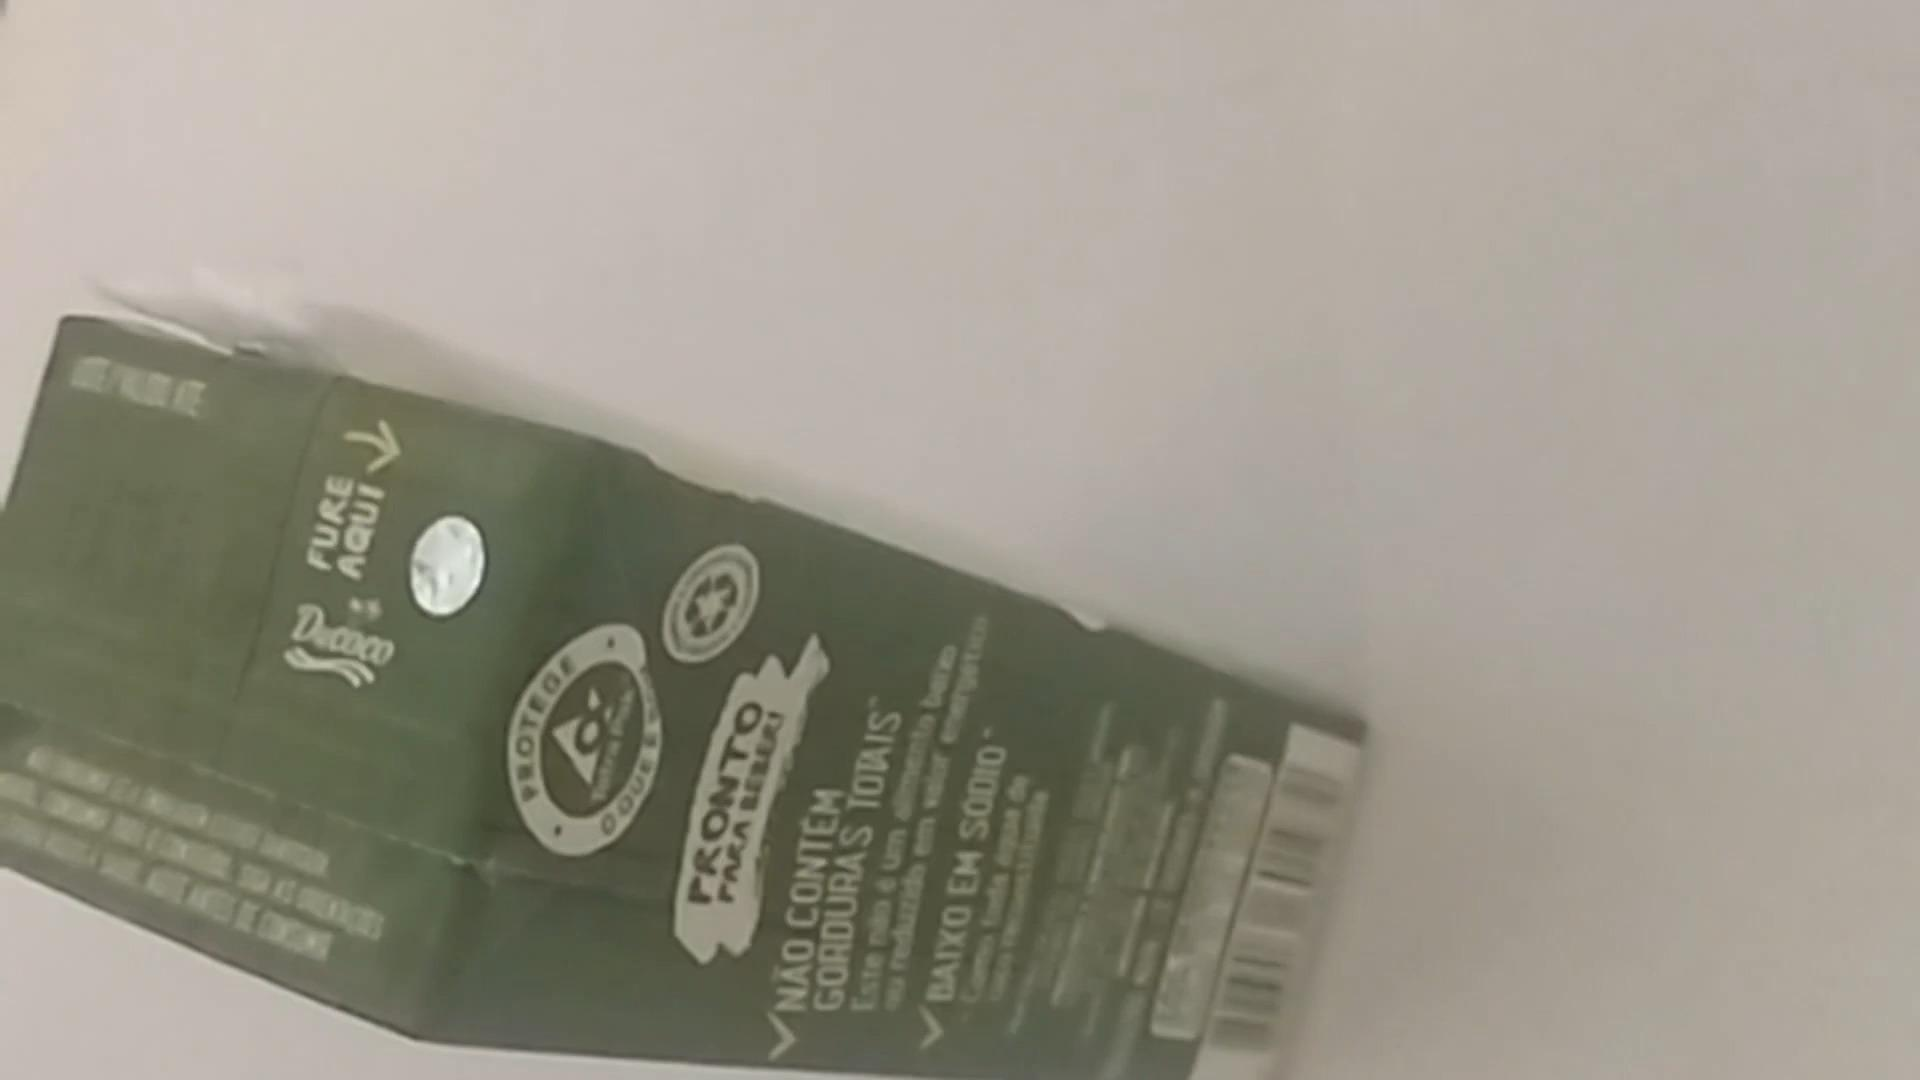coco: (15, 316, 1365, 1080)
